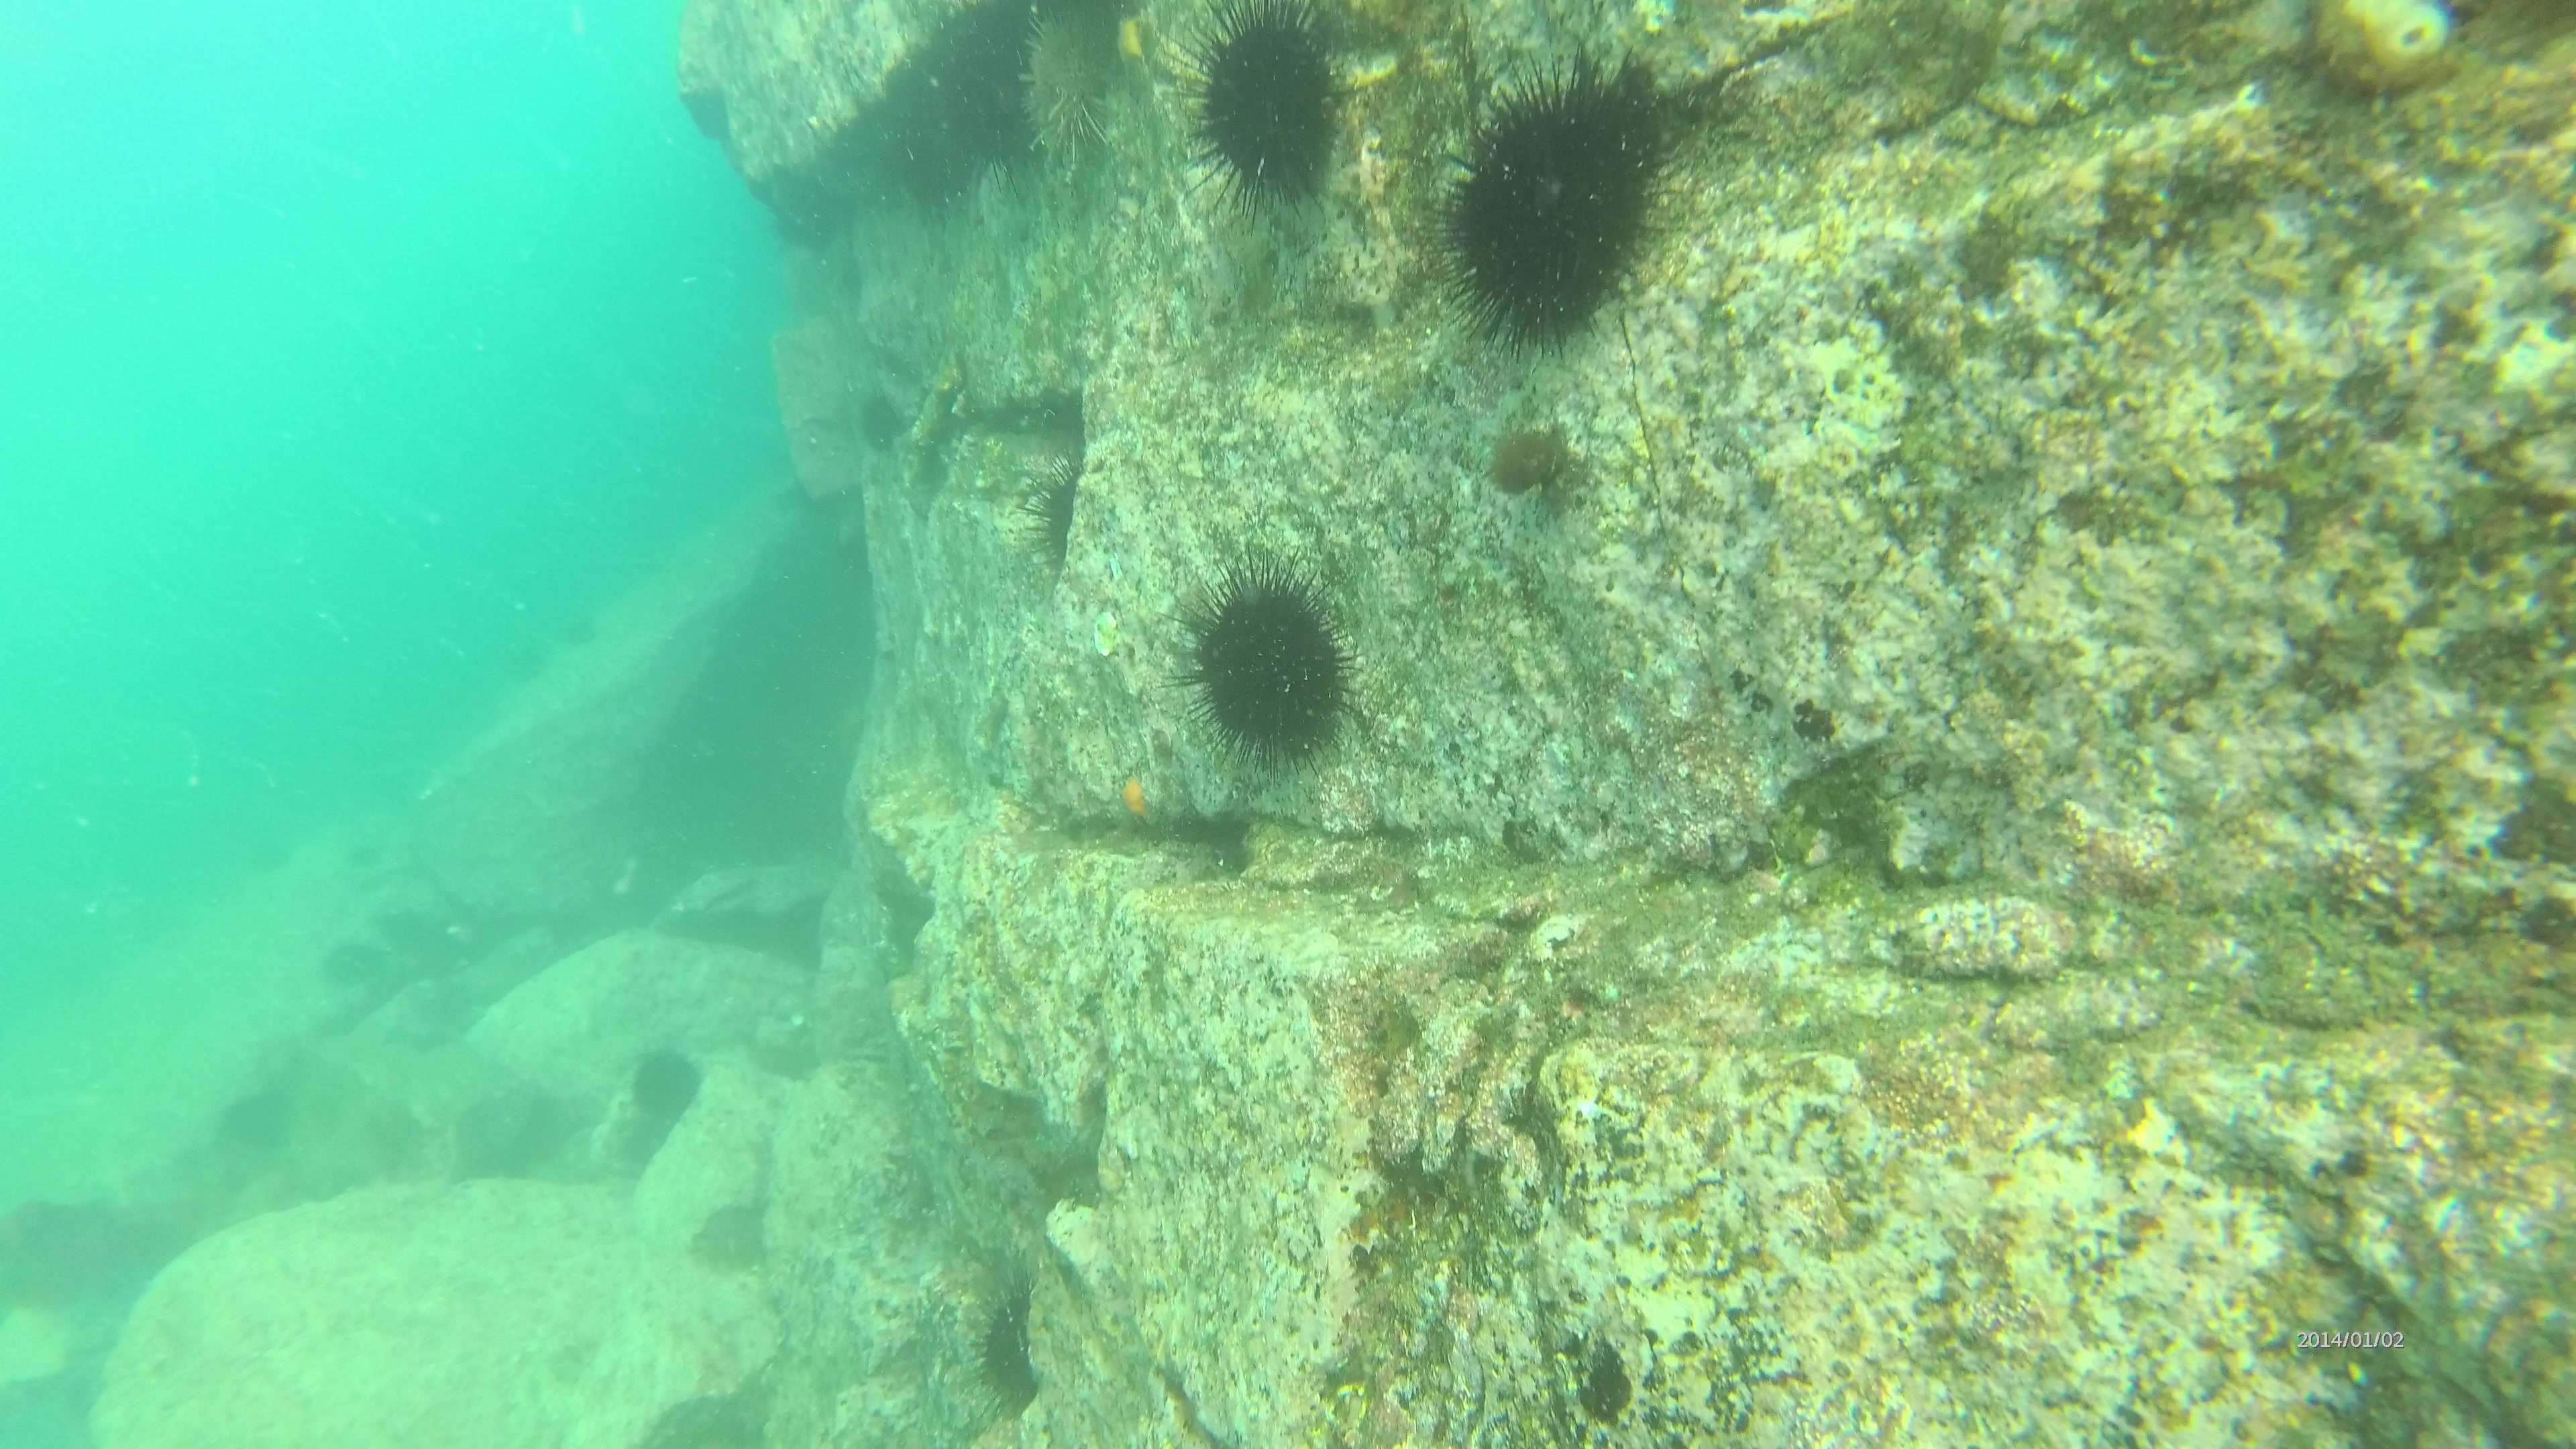echinus: (1421, 50, 1654, 343), (1155, 564, 1359, 771), (1194, 0, 1352, 234), (1021, 0, 1118, 165), (1014, 448, 1104, 580), (633, 1040, 713, 1125), (856, 396, 908, 456)
